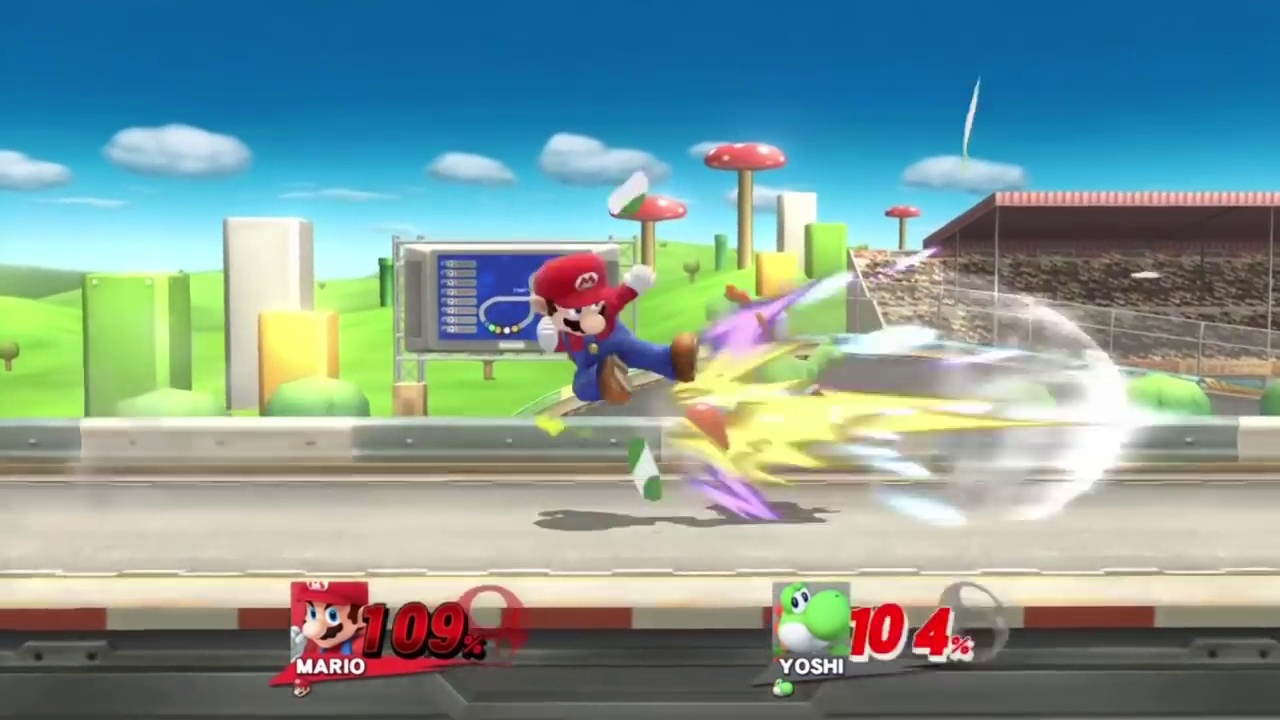Mario: (528, 253, 695, 403)
